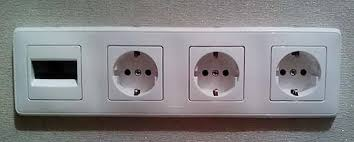raccoon: (274, 48, 323, 98), (110, 49, 159, 97), (192, 49, 240, 98)
